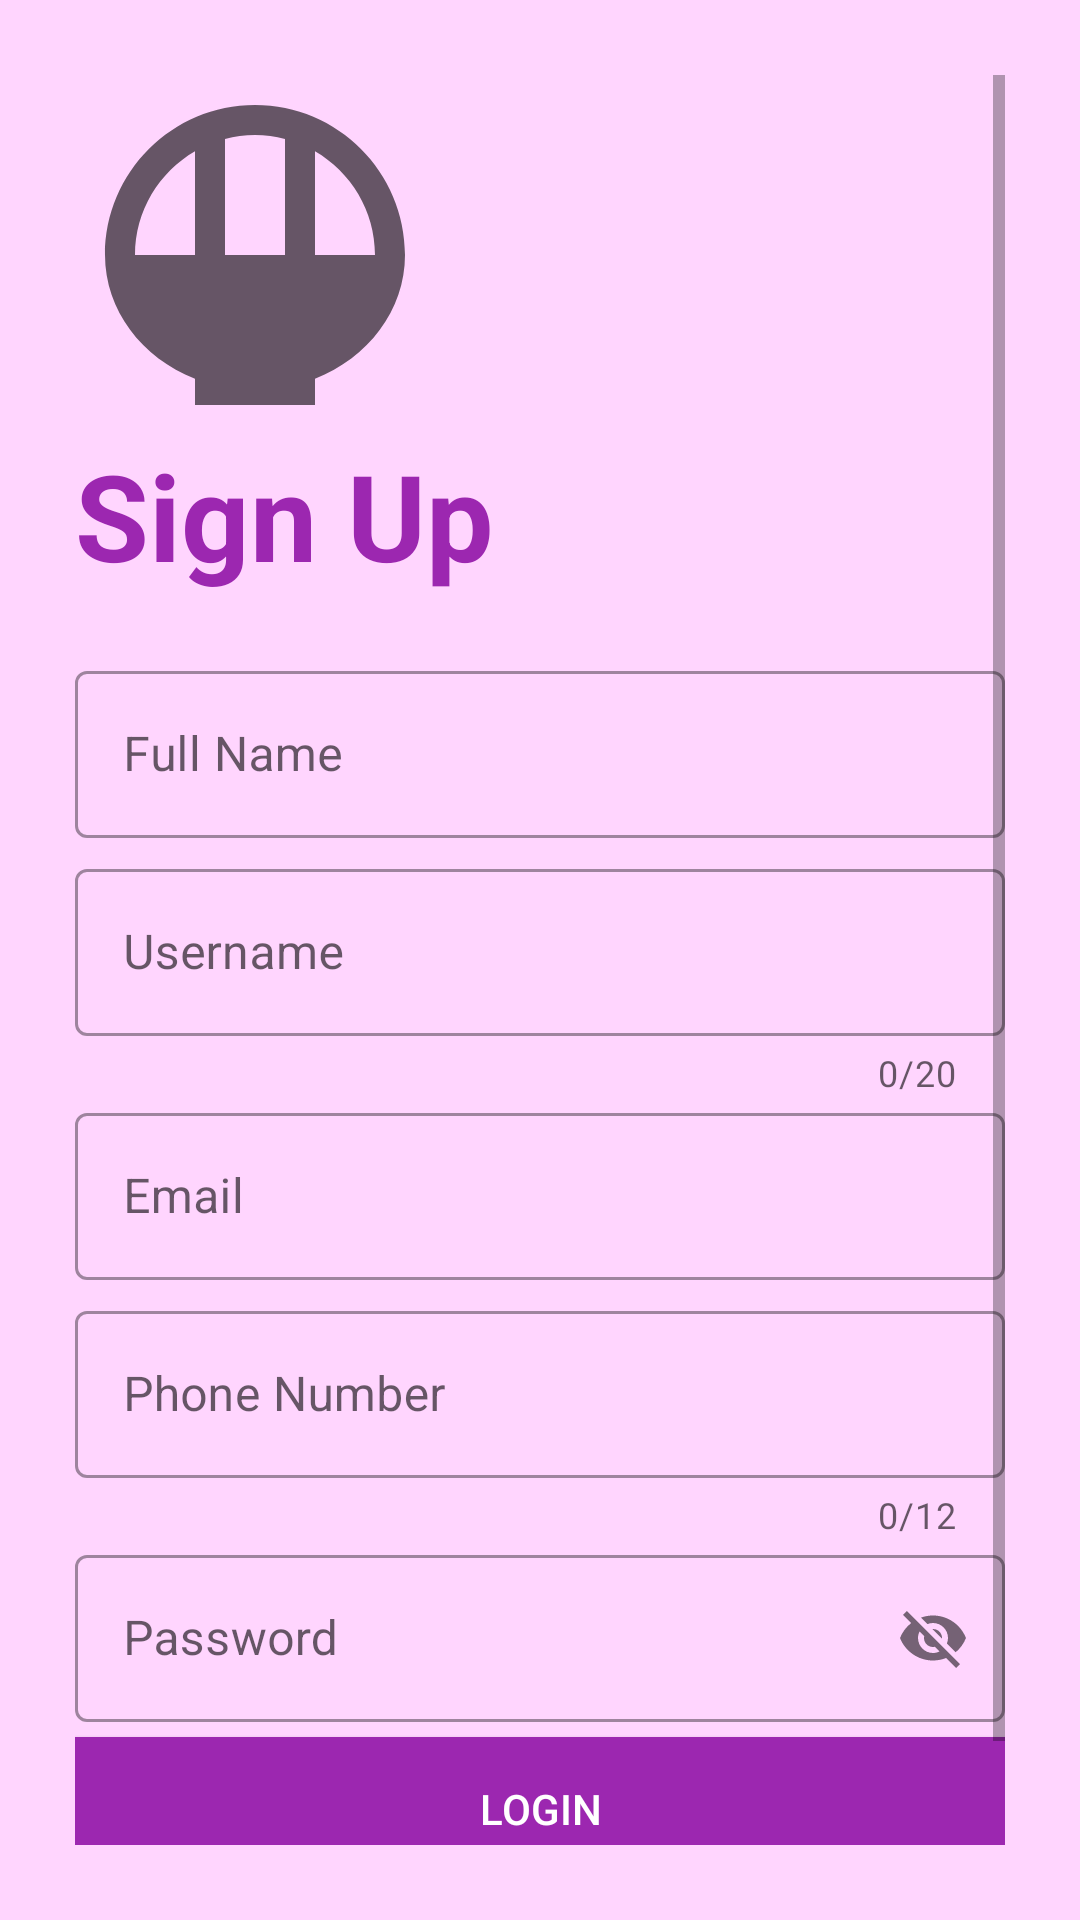

Where icons sit on this 1080*1920 app screen, as region(x1, y1, x2, y2):
rice bowl: region(105, 105, 405, 405)
